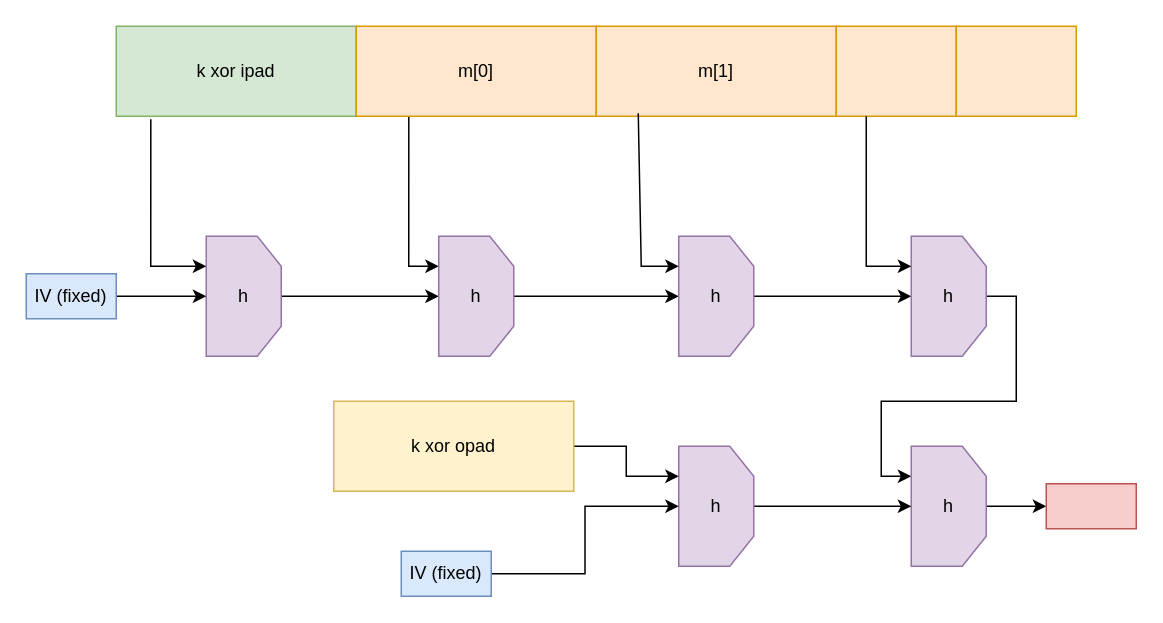
Image size: 1163x623. Some labels were removed from this diagram. Here are the shapes that lost their labels. From the top down, the centre of each, then its label:
At point (895, 70): "m[2]".
At point (1015, 70): "PB".
At point (1090, 505): "tag".
